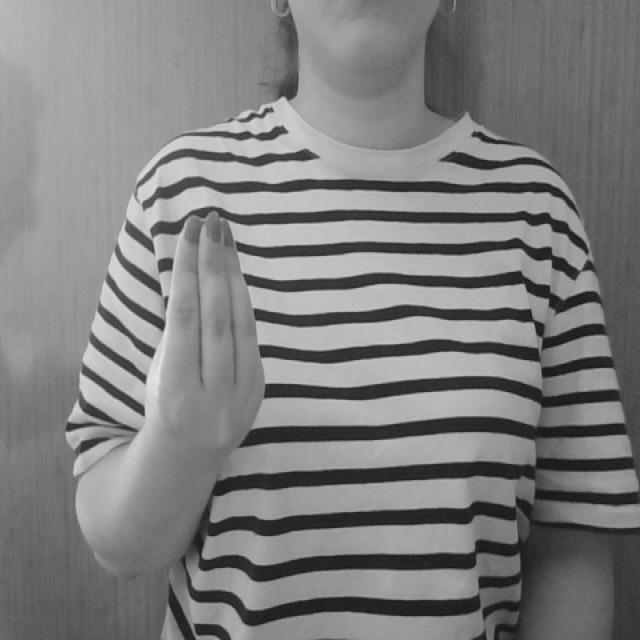iyi: (136, 202, 275, 456)
